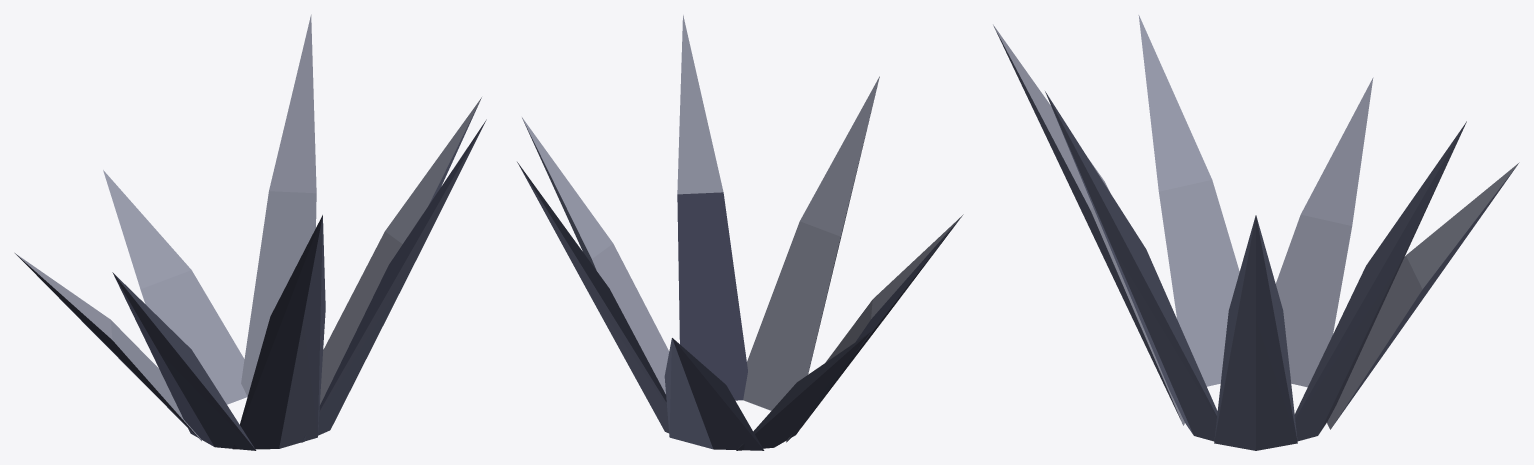
The model's file is TW_GRASS_TUFT_A_LOD0.glb.
The picture shows the model from 3 angles, left to right: view 1: azimuth 30°, elevation 25°; view 2: azimuth 150°, elevation 25°; view 3: azimuth 270°, elevation 25°; orthographic projection. The views are drawn at different scales.
Visible parts, largest first — view 1: TW_GRASS_TUFT_A_LOD0; view 2: TW_GRASS_TUFT_A_LOD0; view 3: TW_GRASS_TUFT_A_LOD0.
Part boxes in pixels (left/top/right/bottom): TW_GRASS_TUFT_A_LOD0: left=15, top=14, right=486, bottom=450; TW_GRASS_TUFT_A_LOD0: left=517, top=15, right=963, bottom=450; TW_GRASS_TUFT_A_LOD0: left=993, top=15, right=1519, bottom=450.
Bounding box in the file's own units: 0.55 × 0.42 × 0.5.
1 material, 1 textured.
